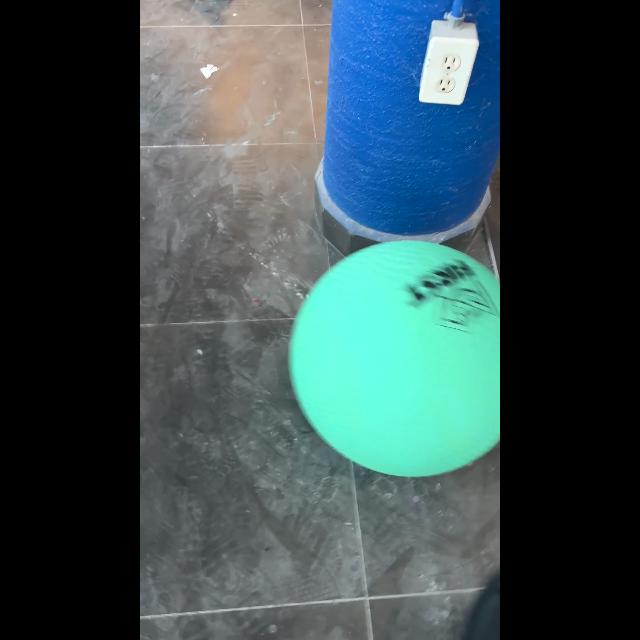ALGAE: (287, 238, 499, 478)
